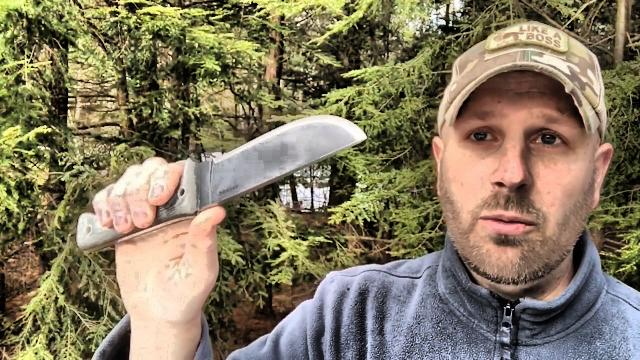knife: (131, 104, 373, 252)
